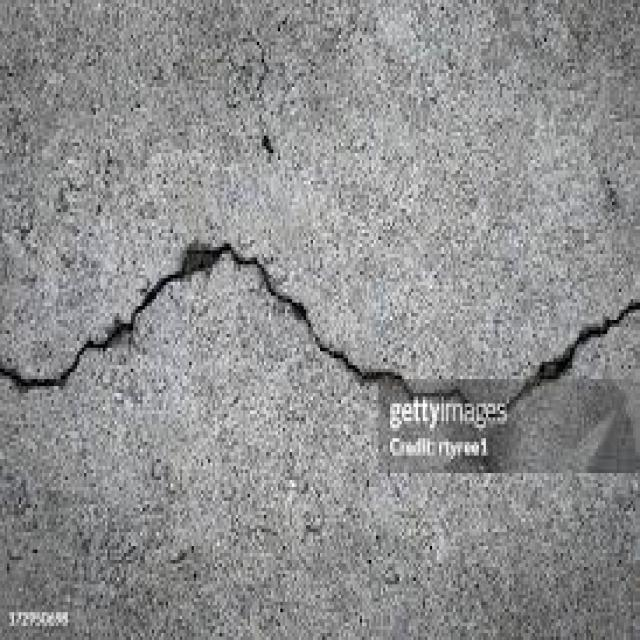crack: (0, 241, 639, 419)
